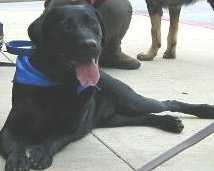dog: (16, 0, 161, 161)
